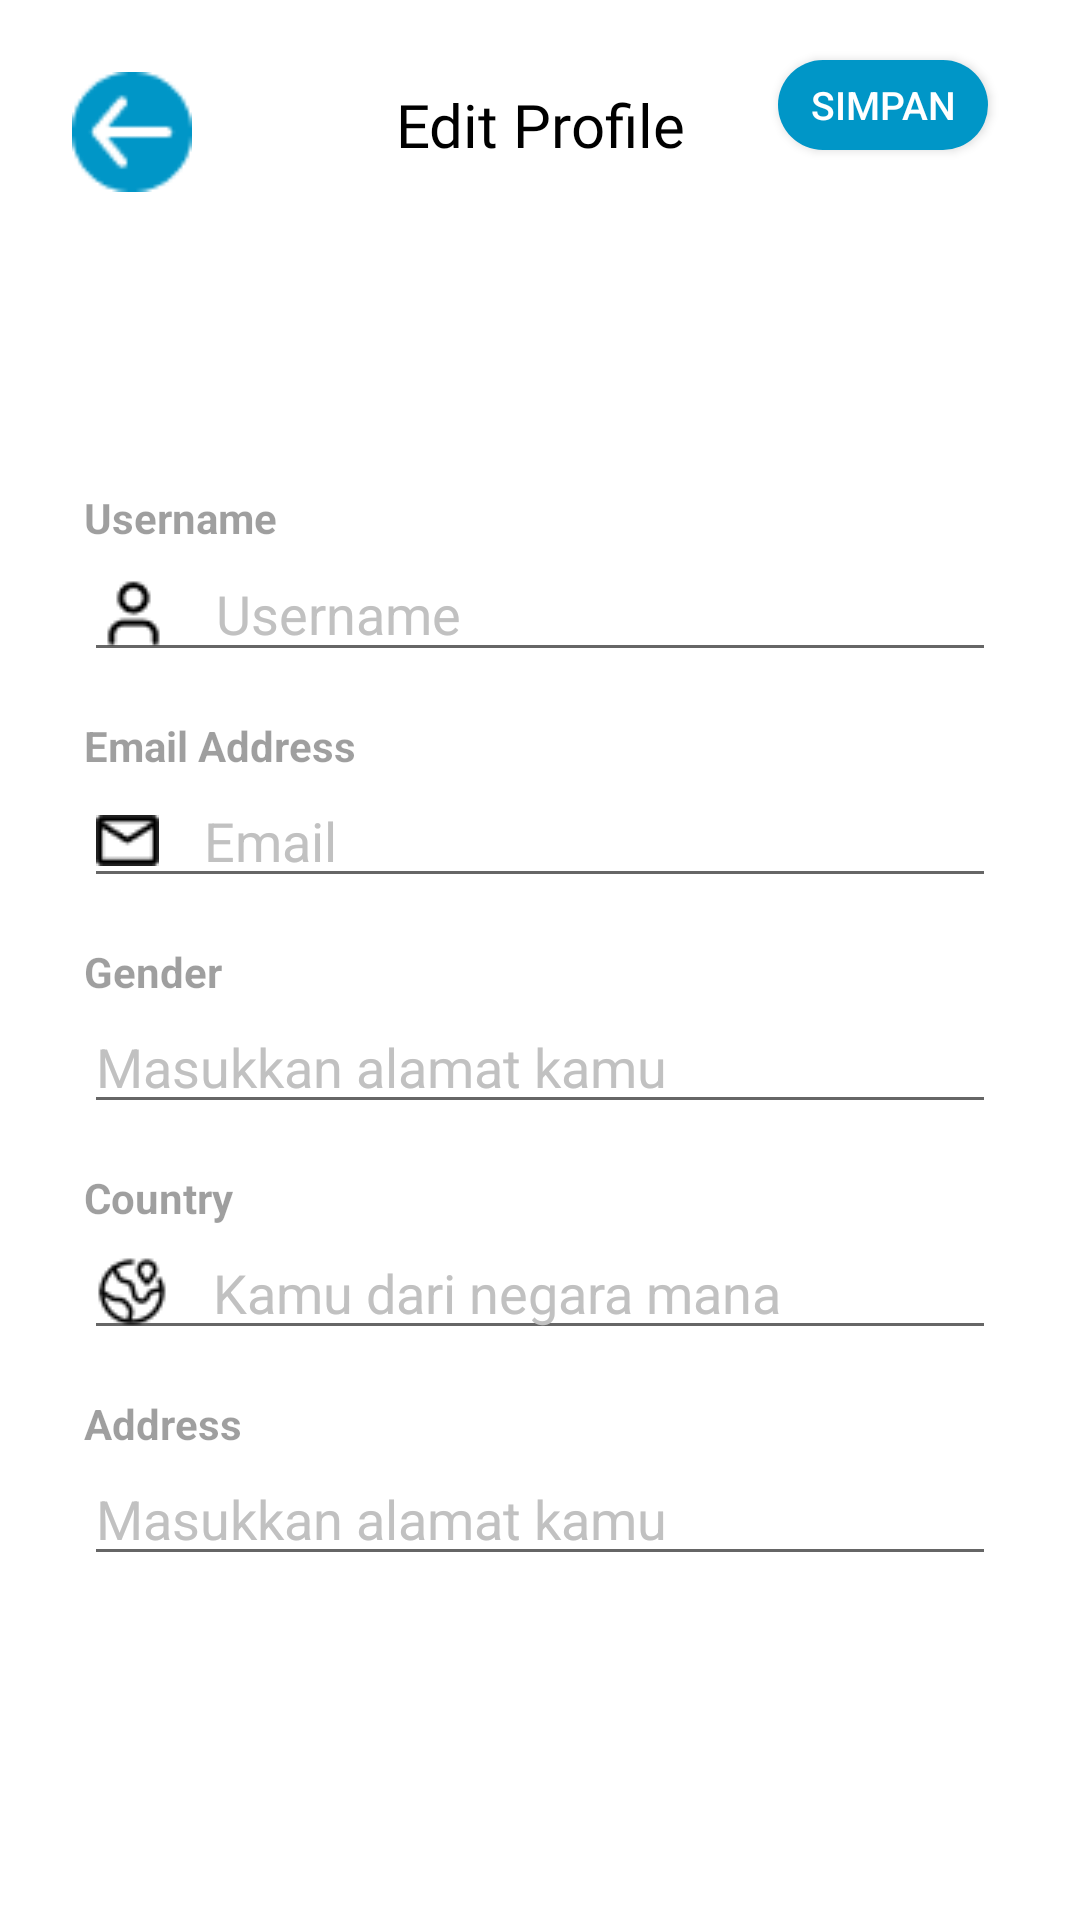

Icons on this 1080px×1920px Android screen, each with its box as bbox(x1, y1, x2, y2):
eva arrow: bbox(72, 72, 192, 192)
